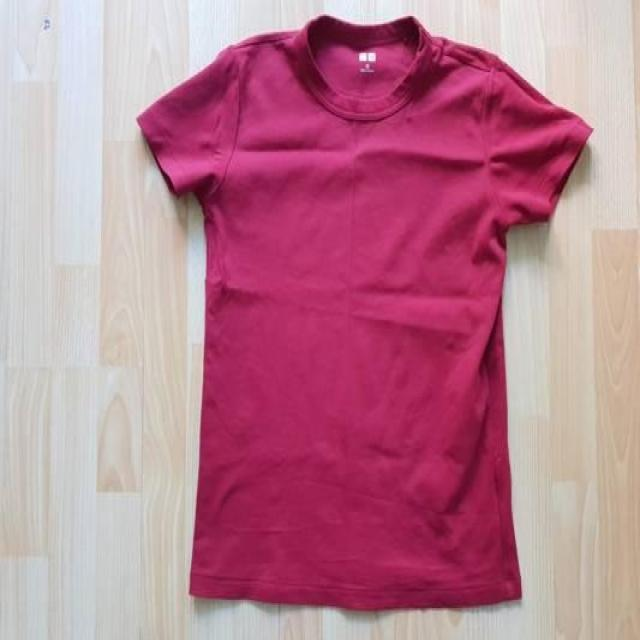shirt: (133, 13, 592, 610)
